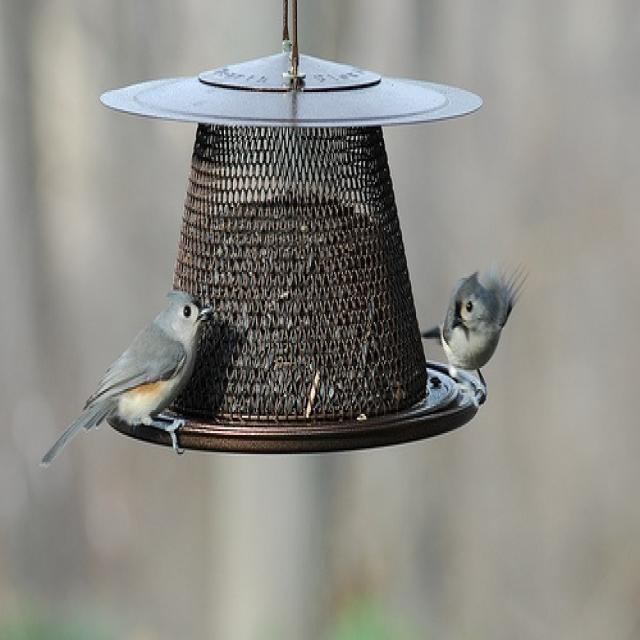bird: (44, 289, 214, 469), (440, 275, 519, 378)
